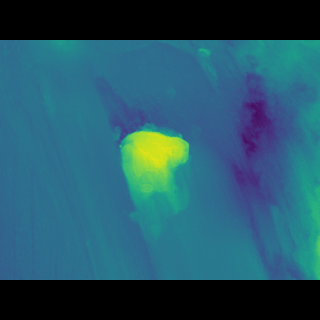Loch: (93, 94, 195, 217)
